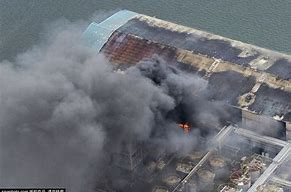smoke: (13, 50, 226, 156)
